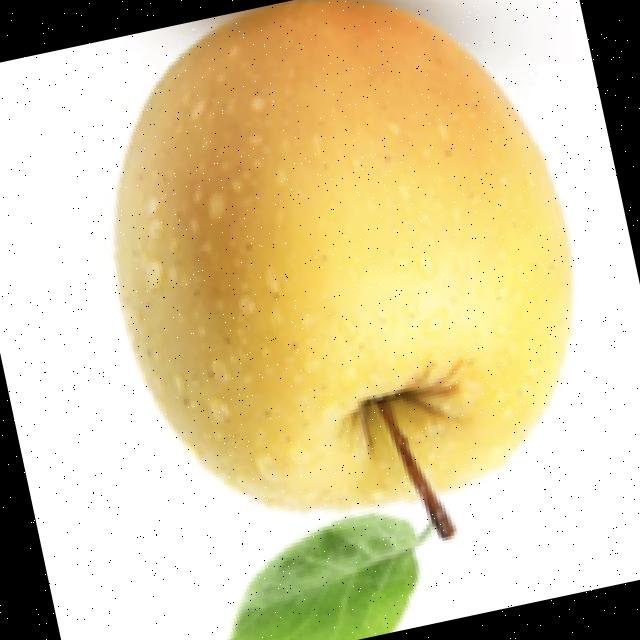apple: (107, 0, 576, 640)
